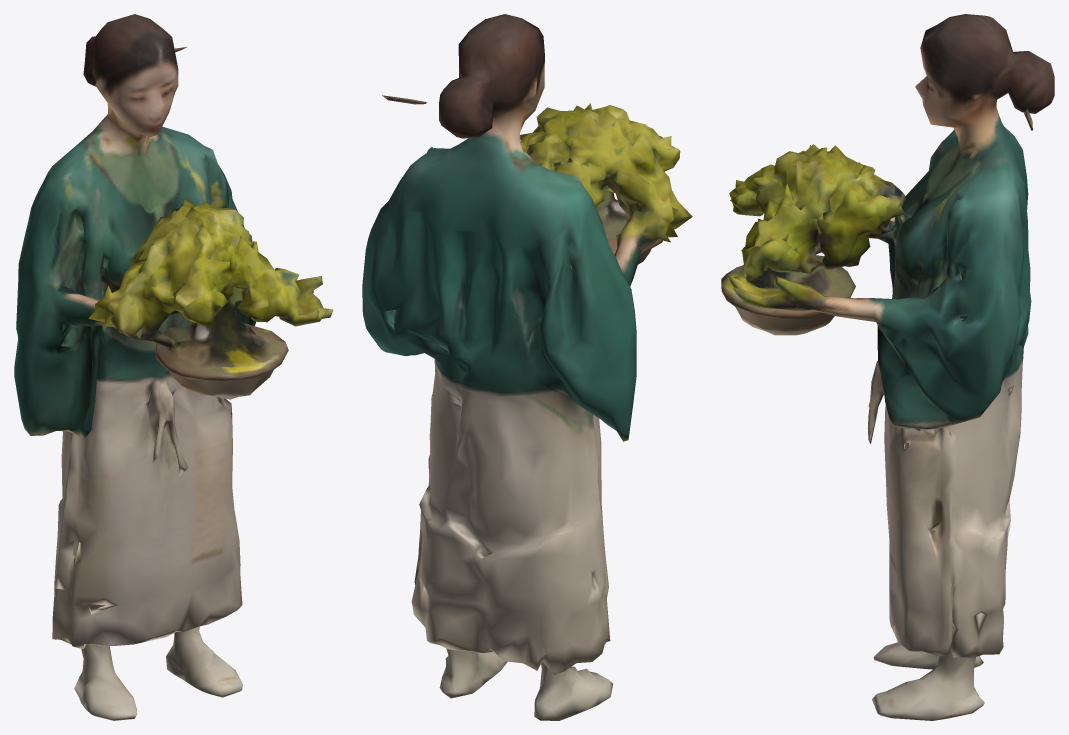
The model's file is ZIPC3.glb.
3 renders of one model, left to right at view 1: azimuth 30°, elevation 25°; view 2: azimuth 150°, elevation 25°; view 3: azimuth 270°, elevation 25°, orthographic. The views are drawn at different scales.
Size of the model in its own units: 0.764 by 2.01 by 0.9034.
1 material, 1 textured.
